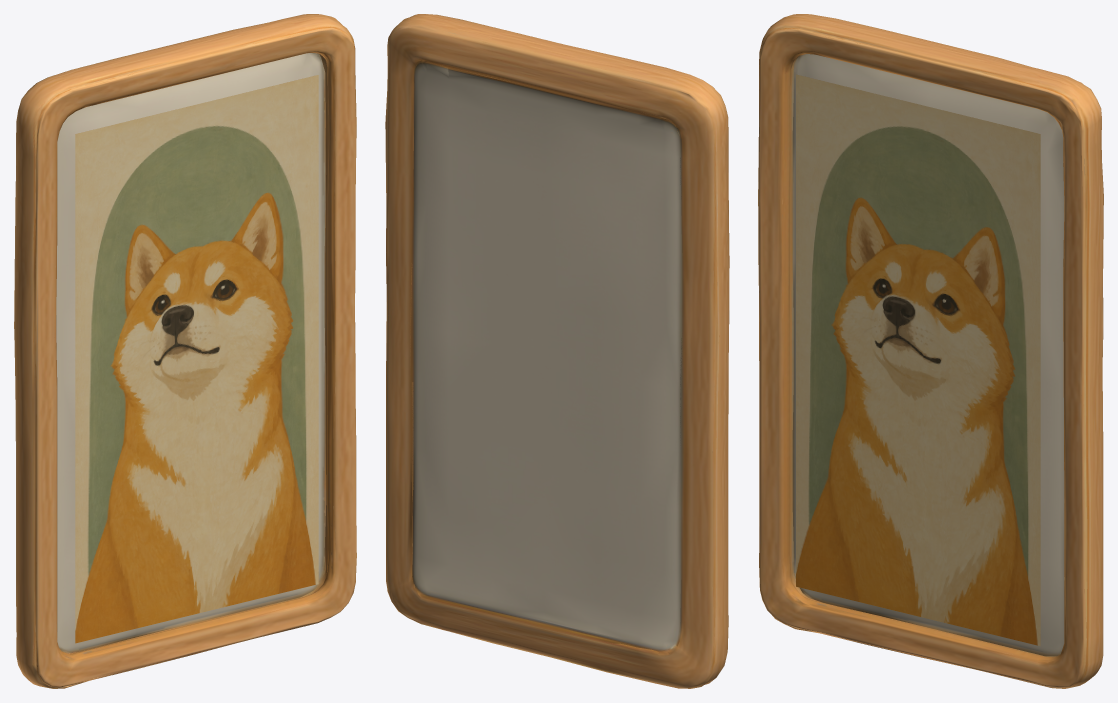
The model's file is wooden paint 3d model_fixed_v01.glb.
The picture shows the model from 3 angles, left to right: view 1: azimuth 30°, elevation 25°; view 2: azimuth 150°, elevation 25°; view 3: azimuth 330°, elevation 25°; orthographic projection.
Visible parts, largest first — view 1: Canvas_ShibaPortrait, Frame_Tripo_Cleaned; view 2: Frame_Tripo_Cleaned; view 3: Canvas_ShibaPortrait, Frame_Tripo_Cleaned.
Part boxes in pixels (bbox=[...]): Canvas_ShibaPortrait: bbox=[75, 75, 318, 643]; Frame_Tripo_Cleaned: bbox=[14, 14, 356, 688]; Frame_Tripo_Cleaned: bbox=[385, 14, 729, 688]; Canvas_ShibaPortrait: bbox=[796, 74, 1040, 646]; Frame_Tripo_Cleaned: bbox=[758, 14, 1103, 688].
Bounding box in the file's own units: 0.5762 × 0.998 × 0.0757.
2 materials, 2 textured.
